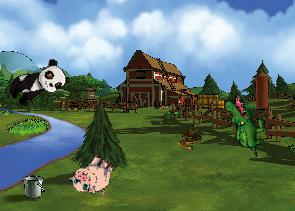crocodile: (211, 91, 279, 158)
panda: (4, 55, 71, 112)
pig: (66, 147, 120, 202)
